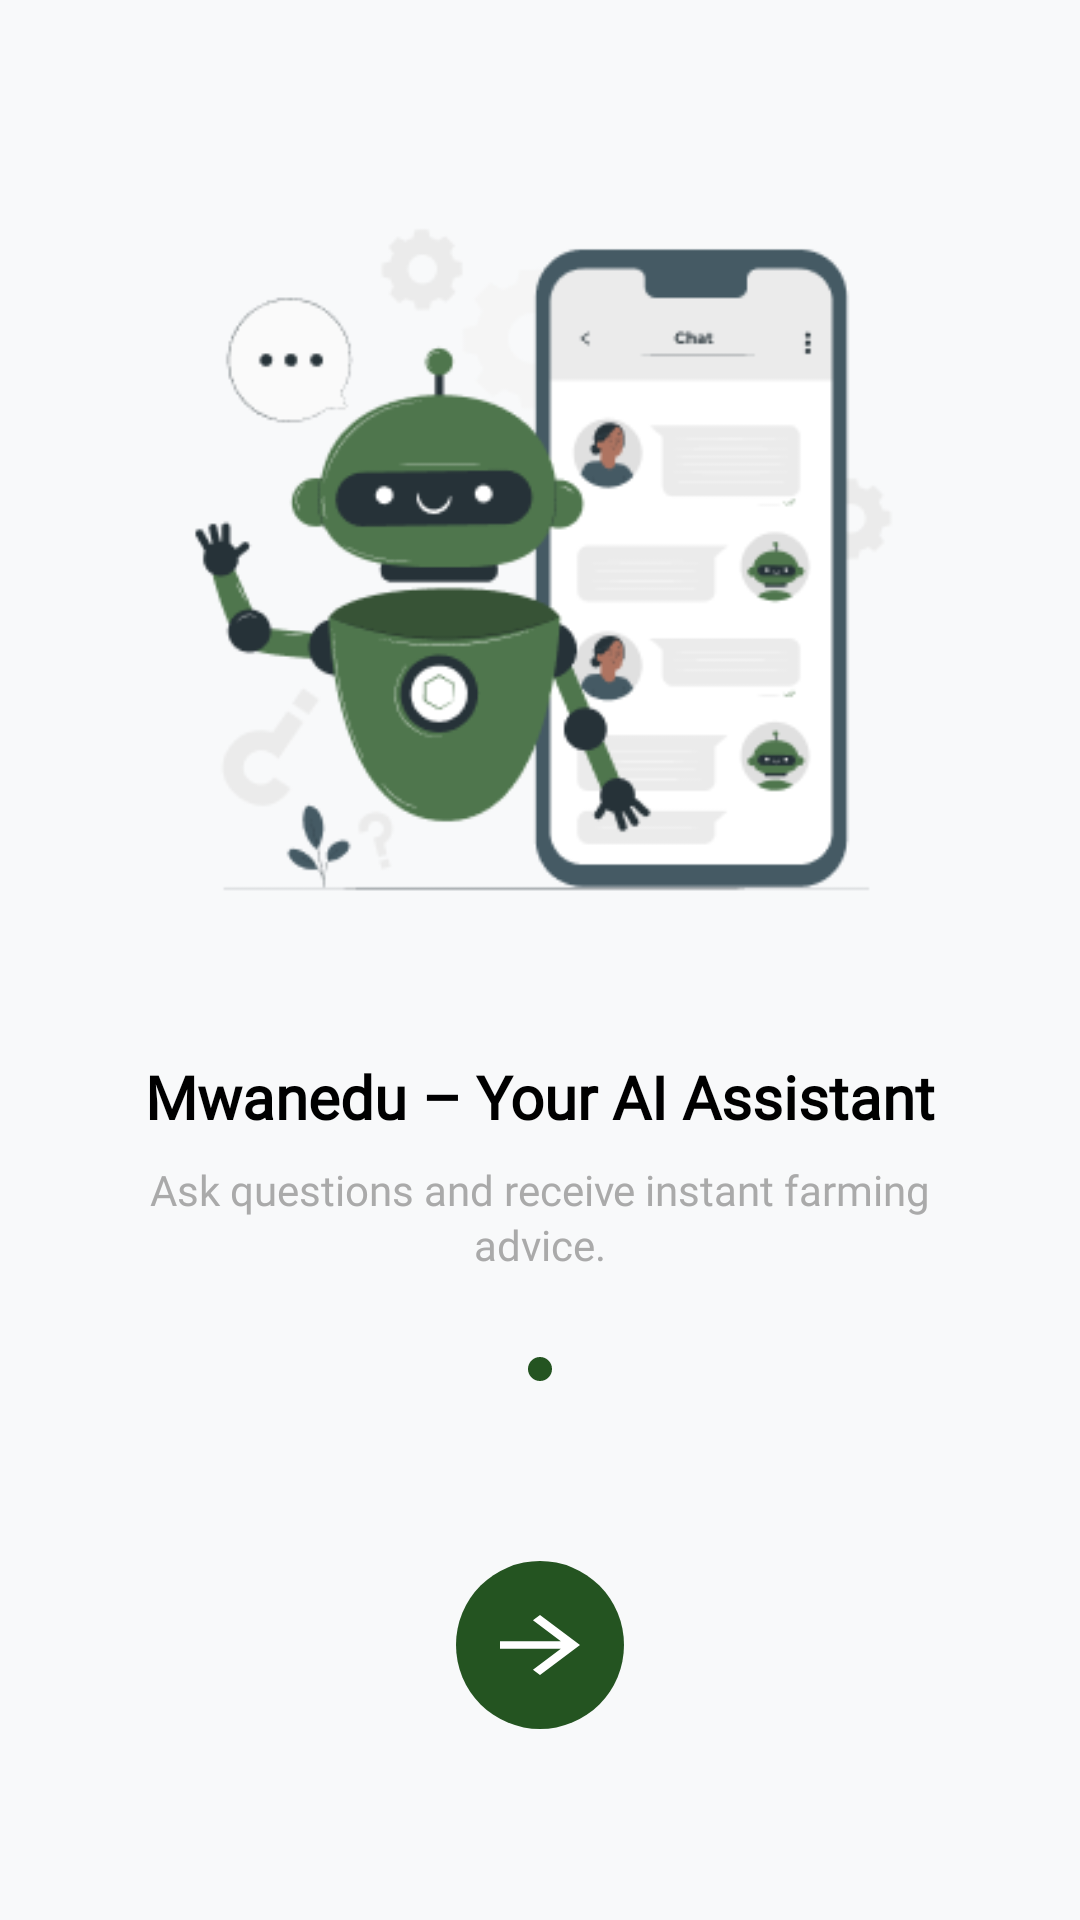

Screen size 1080px×1920px. Icon name, then its center in pixels as (x,y):
Next: (540,1645)
